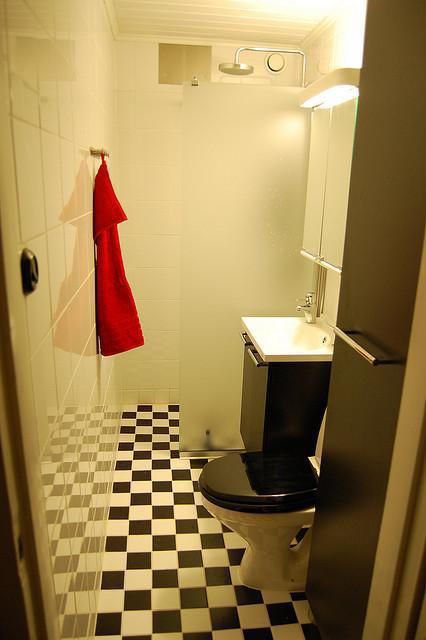Ducha: (177, 38, 311, 453)
Lavamanos: (235, 294, 344, 366)
